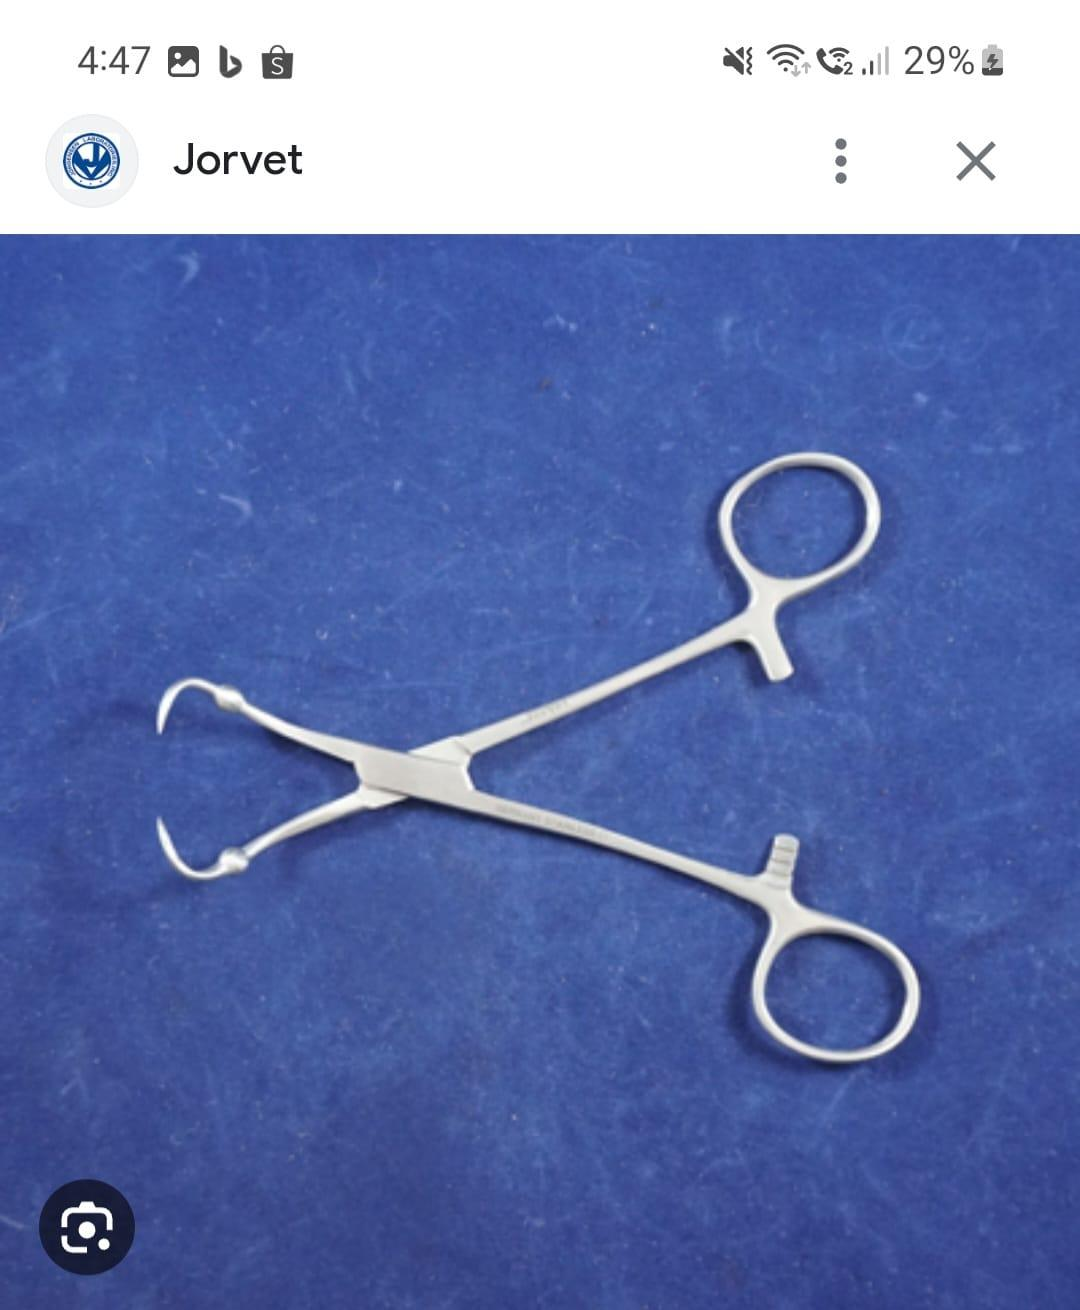Backhaus Towel Clamp: (126, 428, 940, 1078)
